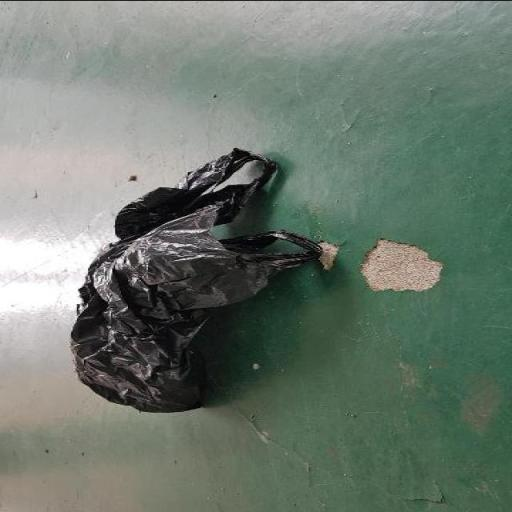plastic-bag: (68, 146, 344, 416)
